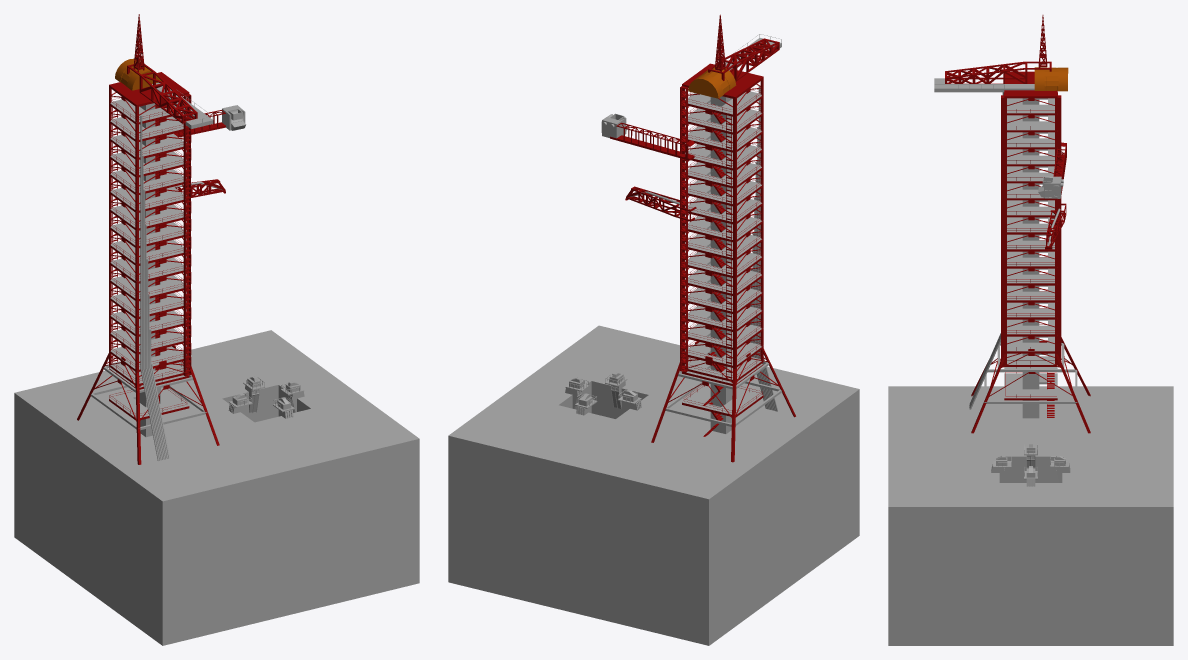
Rendered from ApolloLaunchpad.fbx.
3 renders of one model, left to right at view 1: azimuth 30°, elevation 25°; view 2: azimuth 150°, elevation 25°; view 3: azimuth 270°, elevation 25°, orthographic. The views are drawn at different scales.
Parts seen in each view (by area): view 1: Platform, FloorShape (×3), Floor_Combined13, Floor_Combined12, Floor_Combined11, Floor_Combined10, Floor_Combined9, Floor_Combined8, Floor_Combined7, Floor_Combined6, Floor_Combined5, Floor_Combined14 (+10 smaller); view 2: Platform, FloorShape (×3), Floor_Combined6, Floor_Combined10, Floor_Combined5, Floor_Combined7, Floor_Combined4, Floor_Combined3, Floor_Combined14, Floor_Combined11, Whole_Tower, Floor_Combined13 (+8 smaller); view 3: Platform, FloorShape (×3), Floor_Combined4, Floor_Combined3, Floor_Combined5, Whole_Tower, Floor_Combined6, Floor_Combined14, Floor_Combined13, Floor_Combined9, Floor_Combined12, Floor_Combined7 (+12 smaller).
Boxes of the visible parts, <box> form: Platform: <box>14,330,419,645</box>; FloorShape (×3): <box>109,99,189,420</box>; Floor_Combined13: <box>109,122,191,160</box>; Floor_Combined12: <box>109,140,191,177</box>; Floor_Combined11: <box>109,158,191,195</box>; Floor_Combined10: <box>109,176,191,213</box>; Floor_Combined9: <box>109,193,191,230</box>; Floor_Combined8: <box>109,211,191,248</box>; Floor_Combined7: <box>109,229,191,266</box>; Floor_Combined6: <box>109,246,191,283</box>; Floor_Combined5: <box>109,264,191,301</box>; Floor_Combined14: <box>109,105,190,142</box>; Platform: <box>448,325,859,645</box>; FloorShape (×3): <box>682,91,763,417</box>; Floor_Combined6: <box>680,240,763,278</box>; Floor_Combined10: <box>680,169,763,206</box>; Floor_Combined5: <box>680,258,763,296</box>; Floor_Combined7: <box>680,222,763,260</box>; Floor_Combined4: <box>680,276,763,314</box>; Floor_Combined3: <box>680,294,763,332</box>; Floor_Combined14: <box>680,97,763,135</box>; Floor_Combined11: <box>680,151,763,188</box>; Whole_Tower: <box>680,312,763,350</box>; Floor_Combined13: <box>680,115,763,152</box>; Platform: <box>888,386,1173,645</box>; FloorShape (×3): <box>1004,98,1057,400</box>; Floor_Combined4: <box>1001,272,1061,302</box>; Floor_Combined3: <box>1001,289,1061,319</box>; Floor_Combined5: <box>1001,255,1061,285</box>; Whole_Tower: <box>1001,306,1061,336</box>; Floor_Combined6: <box>1001,238,1061,268</box>; Floor_Combined14: <box>1001,92,1061,132</box>; Floor_Combined13: <box>1001,130,1061,149</box>; Floor_Combined9: <box>1001,199,1061,217</box>; Floor_Combined12: <box>1001,136,1061,166</box>; Floor_Combined7: <box>1001,221,1061,251</box>.
Bounding box in the file's own units: 17.08 × 35.5 × 17.08.
